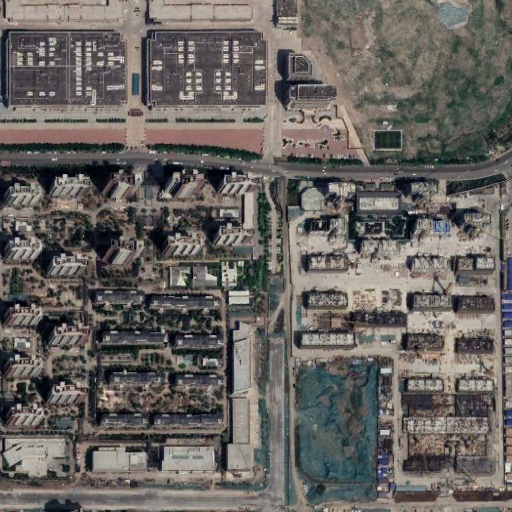cw: (291, 355, 380, 500)
